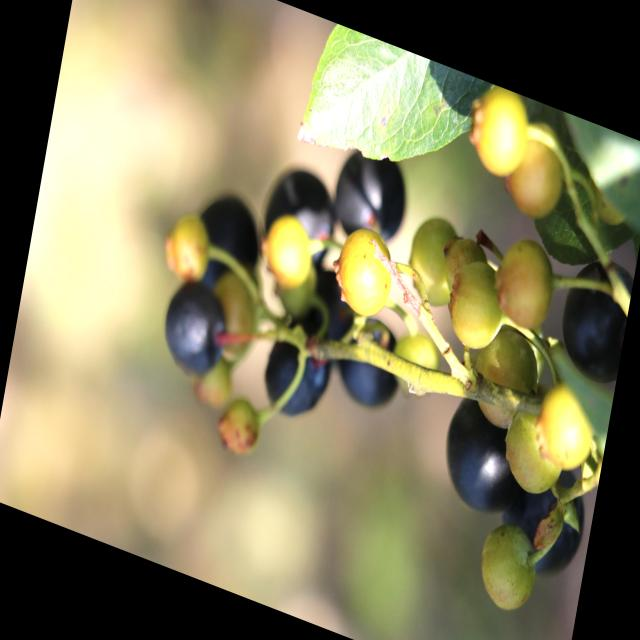blueberry: (495, 445, 591, 588), (434, 390, 530, 529), (550, 241, 636, 395), (182, 177, 268, 319), (326, 132, 416, 262), (252, 152, 340, 280), (330, 309, 410, 421), (257, 322, 333, 430), (157, 280, 233, 386)
blueberry-halfripe: (214, 392, 264, 466)
blueberry-unripe: (468, 317, 545, 443), (461, 81, 536, 190), (443, 256, 514, 366), (529, 373, 601, 481), (497, 398, 567, 508), (491, 230, 559, 339), (500, 126, 567, 228), (332, 226, 398, 328), (475, 518, 541, 618), (405, 210, 468, 312), (258, 213, 318, 299), (161, 210, 213, 288)
